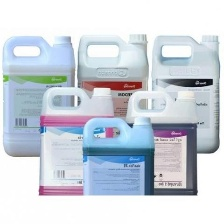cleaning_solution: (36, 84, 118, 213), (0, 33, 77, 159), (122, 87, 199, 209), (76, 33, 150, 156), (149, 31, 222, 155), (81, 114, 156, 224)
